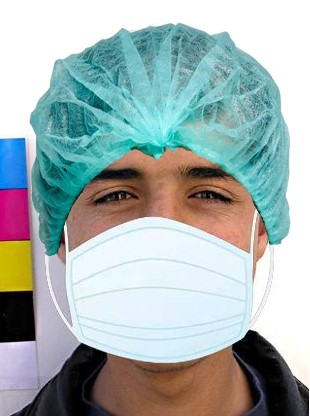with_mask_and_cap: (30, 24, 288, 366)
